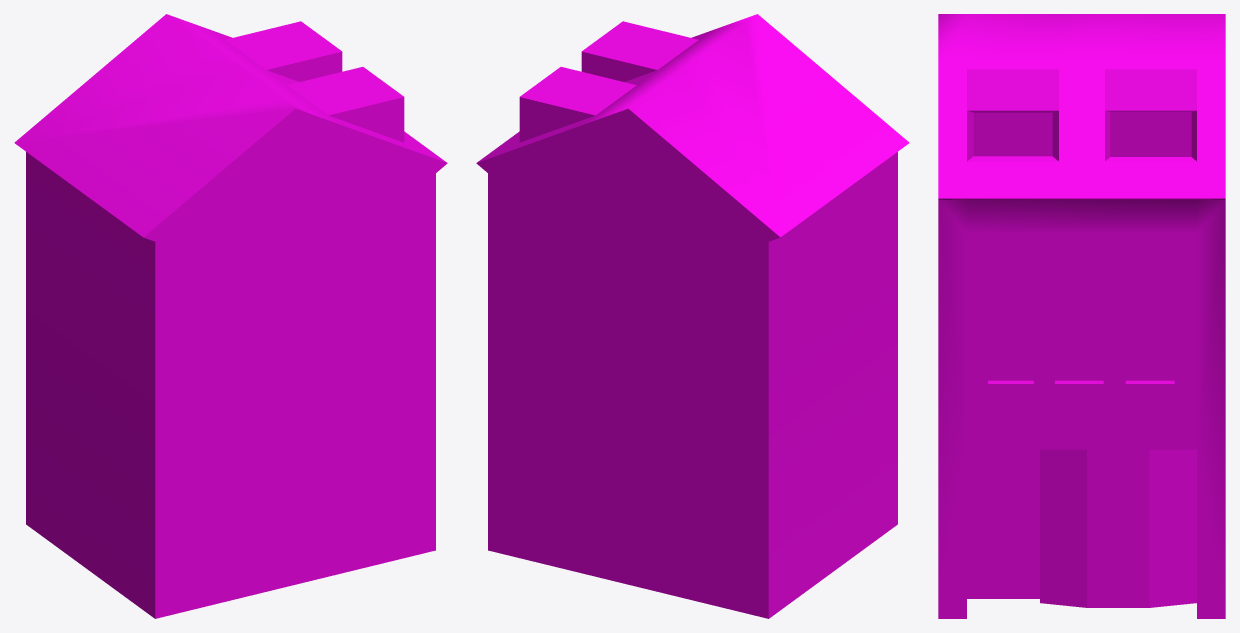
The model's file is building 1 var 3.fbx.
3 renders of one model, left to right at view 1: azimuth 30°, elevation 25°; view 2: azimuth 150°, elevation 25°; view 3: azimuth 270°, elevation 25°, orthographic. The views are drawn at different scales.
Visible parts, largest first — view 1: buliding_1_var_3; view 2: buliding_1_var_3; view 3: buliding_1_var_3.
Boxes of the visible parts, <box> form: buliding_1_var_3: <box>14,14,447,618</box>; buliding_1_var_3: <box>476,14,909,618</box>; buliding_1_var_3: <box>938,14,1225,618</box>.
Size of the model in its own units: 4.11 by 6.14 by 3.02.
